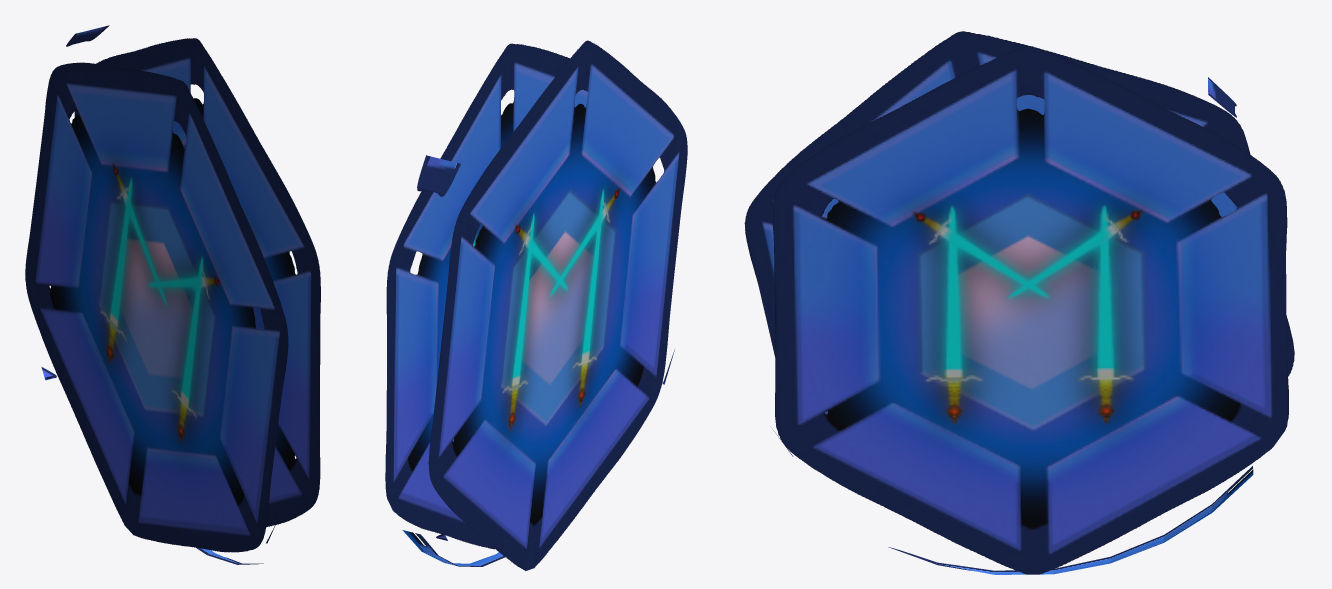
The model's file is coin.fbx.
3 renders of one model, left to right at view 1: azimuth 30°, elevation 25°; view 2: azimuth 150°, elevation 25°; view 3: azimuth 270°, elevation 25°, orthographic. The views are drawn at different scales.
Parts seen in each view (by area): view 1: Cylinder; view 2: Cylinder; view 3: Cylinder.
Part boxes in pixels (x1,y1,x2,y2): Cylinder: (25, 25, 320, 564); Cylinder: (385, 40, 687, 570); Cylinder: (744, 31, 1294, 574).
Bounding box in the file's own units: 19.76 × 199 × 199.
Materials: 1 (1 with a texture image).
